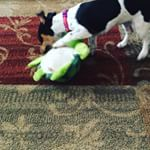puppy: (32, 1, 150, 57)
